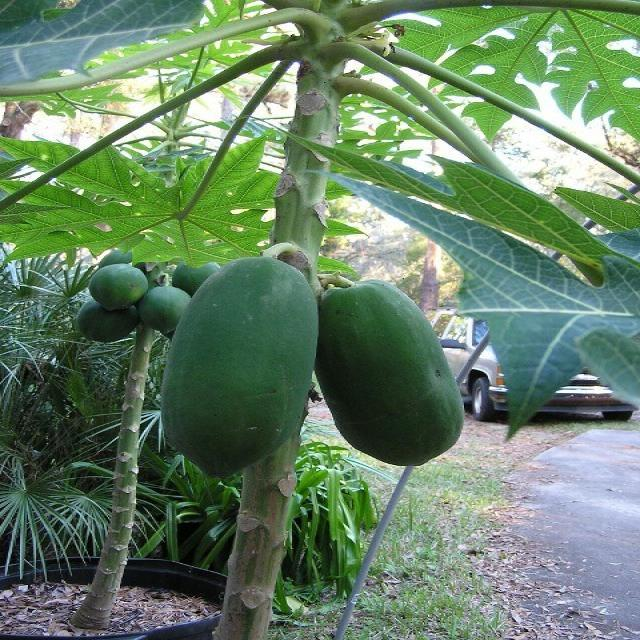Pepaya unrippen: (160, 247, 321, 479), (312, 269, 473, 481), (89, 266, 151, 307)
